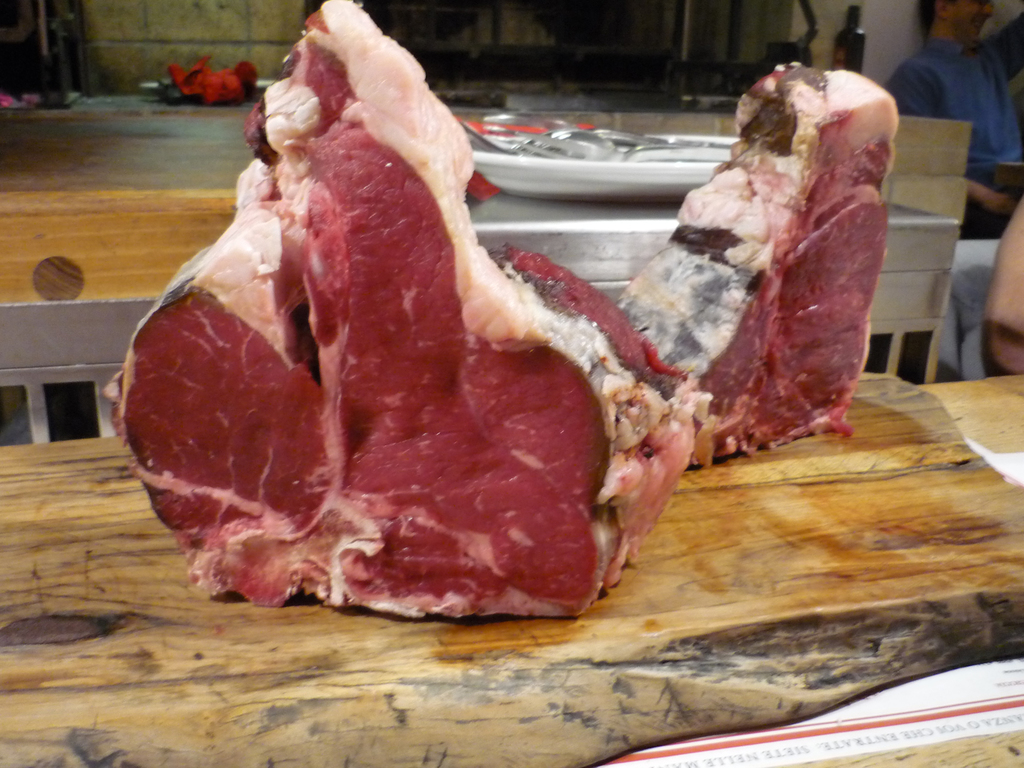Person: (887, 0, 1024, 212)
